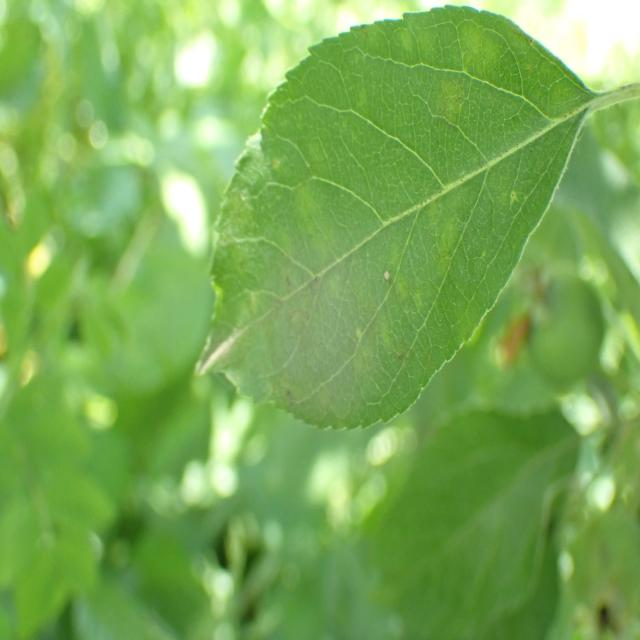scab: (218, 12, 494, 440)
